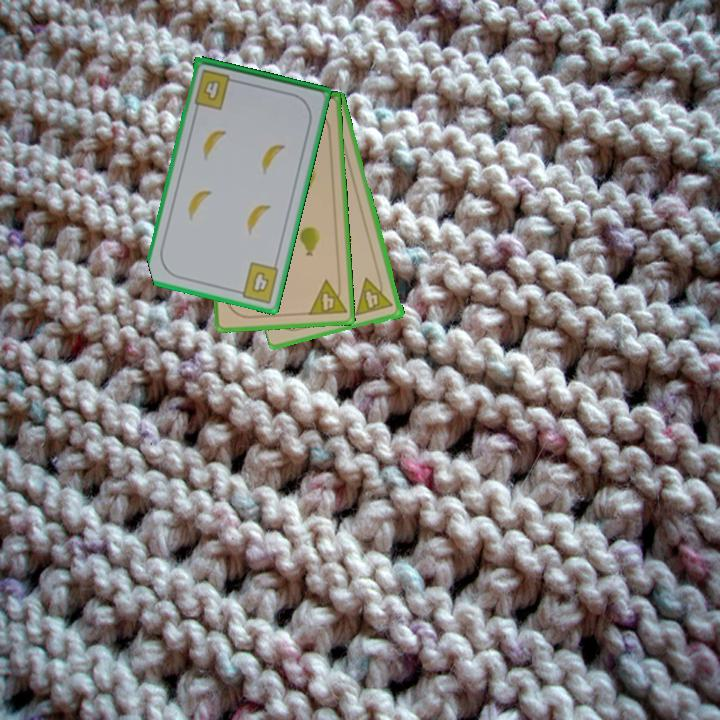4b: (232, 259, 282, 306), (191, 66, 240, 112)
4p: (353, 272, 397, 318), (305, 276, 349, 318)
